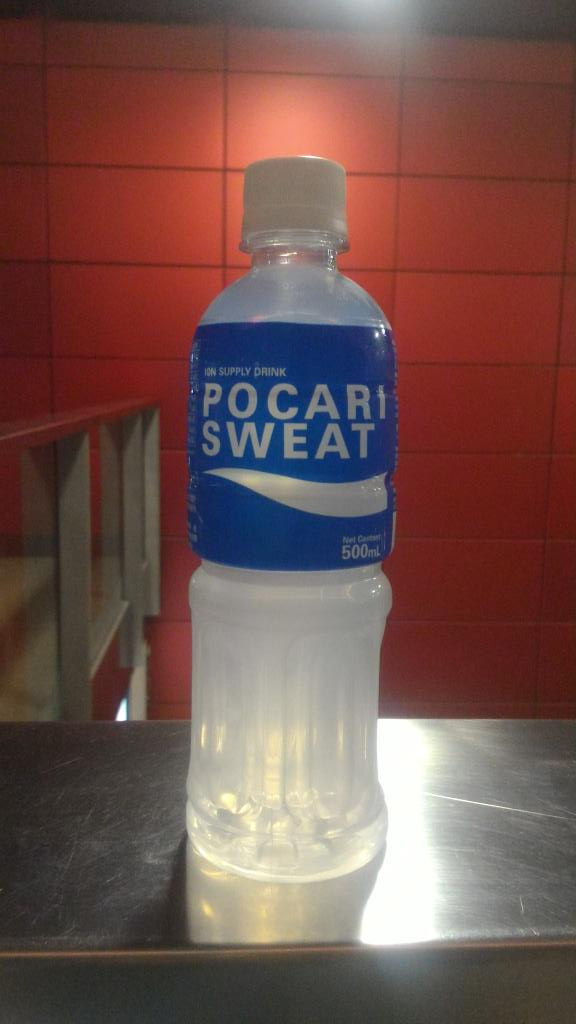POCARI SWEAT: (189, 155, 392, 892)
